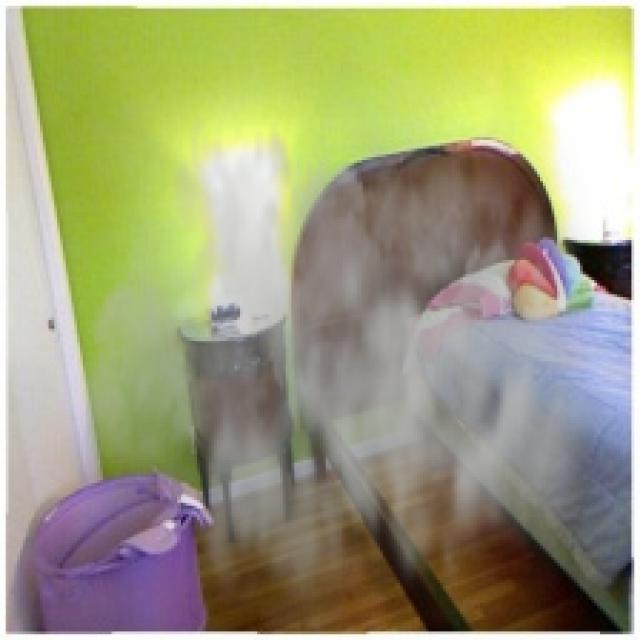smoke: (86, 63, 623, 628)
